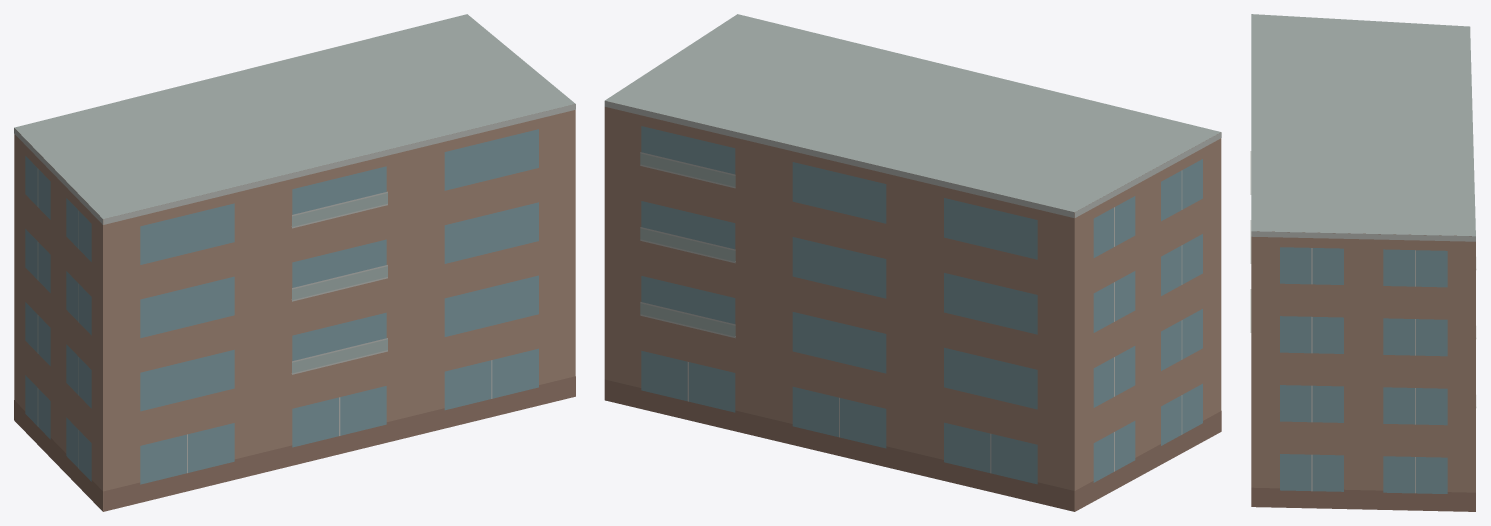
Rendered from residential-36769e11-a978-41ea-aba1-3e991a7fcbe6.glb.
3 renders of one model, left to right at view 1: azimuth 30°, elevation 25°; view 2: azimuth 150°, elevation 25°; view 3: azimuth 270°, elevation 25°, orthographic. The views are drawn at different scales.
Parts seen in each view (by area): view 1: residential-36769e11-a978-41ea-aba1-3e991a7fcbe6.tmp; view 2: residential-36769e11-a978-41ea-aba1-3e991a7fcbe6.tmp; view 3: residential-36769e11-a978-41ea-aba1-3e991a7fcbe6.tmp.
Boxes of the visible parts, x1,y1,x2,y2 form: residential-36769e11-a978-41ea-aba1-3e991a7fcbe6.tmp: [14, 14, 575, 511]; residential-36769e11-a978-41ea-aba1-3e991a7fcbe6.tmp: [604, 14, 1221, 511]; residential-36769e11-a978-41ea-aba1-3e991a7fcbe6.tmp: [1250, 14, 1476, 511].
Bounding box in the file's own units: 21.1 × 12.2 × 9.07.
